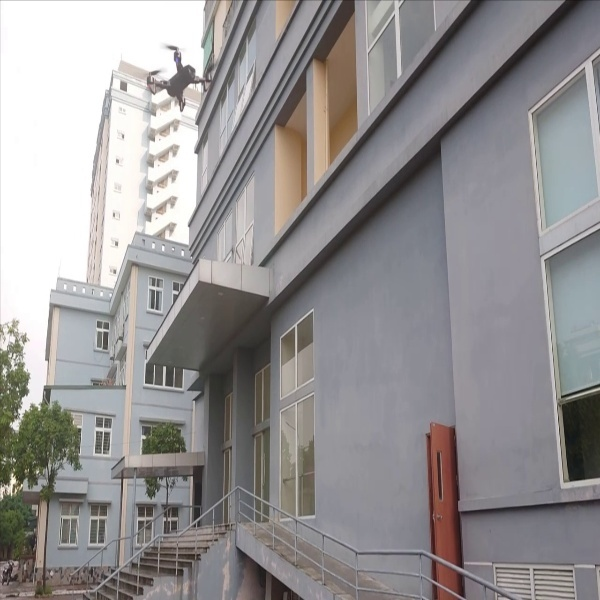drone: (141, 41, 218, 117)
